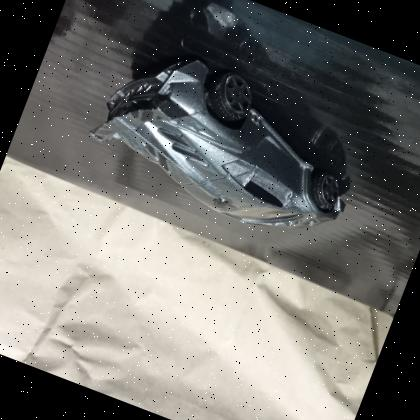Car: (72, 26, 382, 262)
